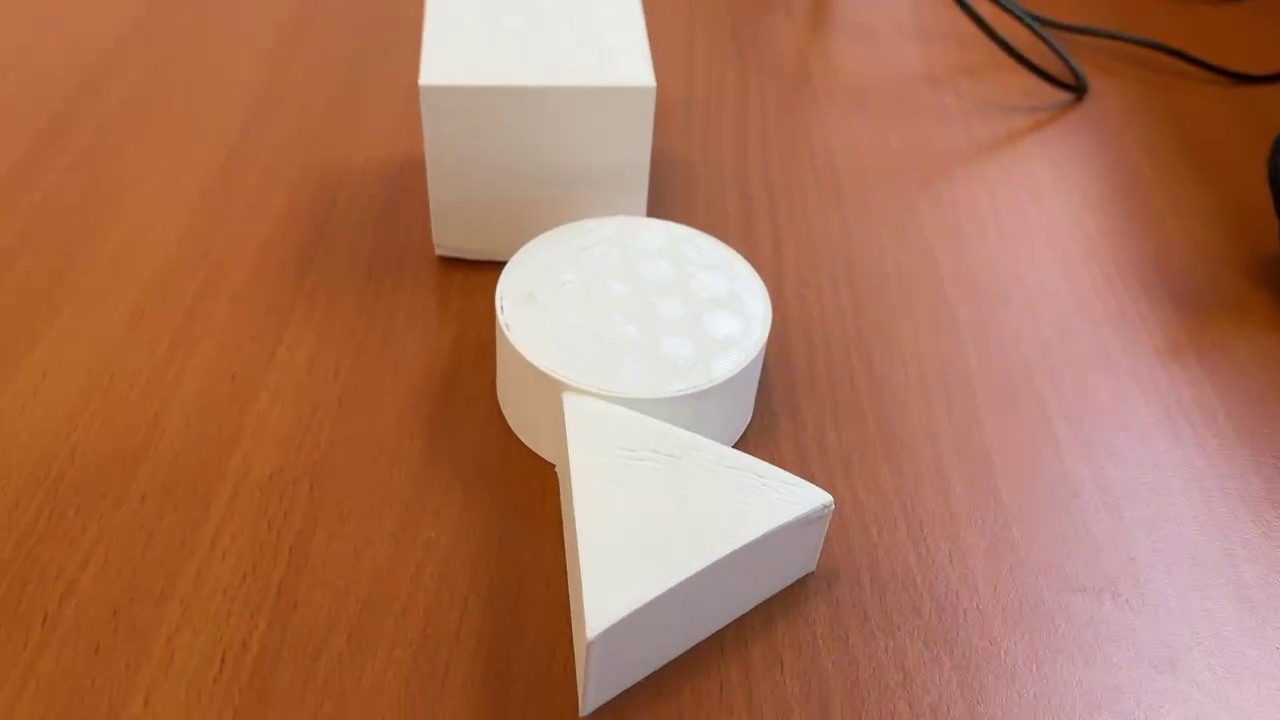Cube: (415, 4, 656, 269)
Cylinder_short: (493, 214, 773, 457)
Triangle_short: (555, 389, 835, 720)
